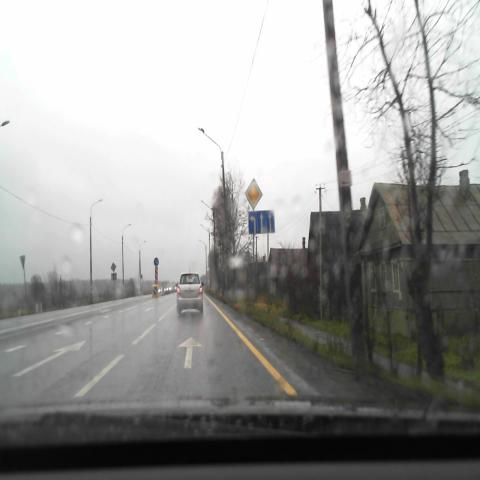2_1: (245, 179, 262, 210)
5_15_1: (248, 210, 275, 234)
